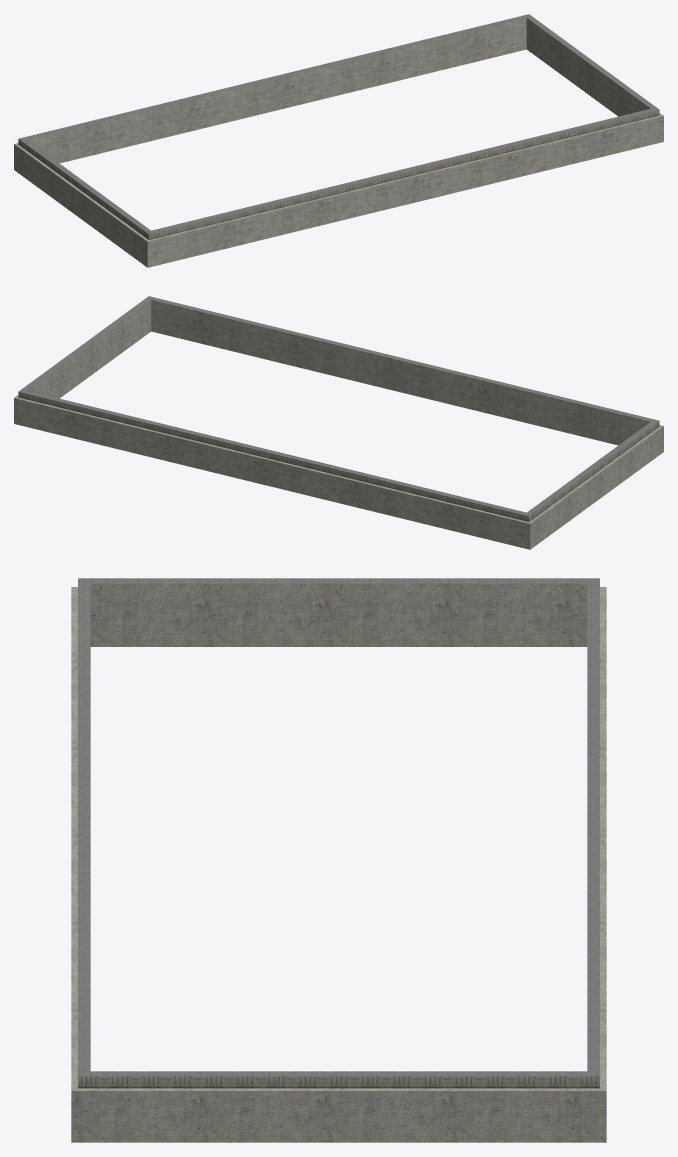
File: mun_all_landing_pad_transport_l0.fbx
3 views of the same model, one above another, from view 1: azimuth 30°, elevation 25°; view 2: azimuth 150°, elevation 25°; view 3: azimuth 270°, elevation 25° (orthographic). The views are drawn at different scales.
Visible parts, largest first — view 1: mesh_node; view 2: mesh_node; view 3: mesh_node.
Boxes of the visible parts, box(x1,y1,x2,y2) form: mesh_node: box(14, 14, 663, 267); mesh_node: box(14, 296, 663, 549); mesh_node: box(71, 578, 606, 1142).
Size of the model in its own units: 46.17 by 2.71 by 20.72.
